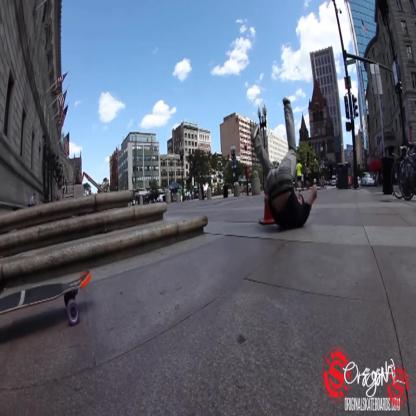Fall_Down: (250, 97, 319, 234)
